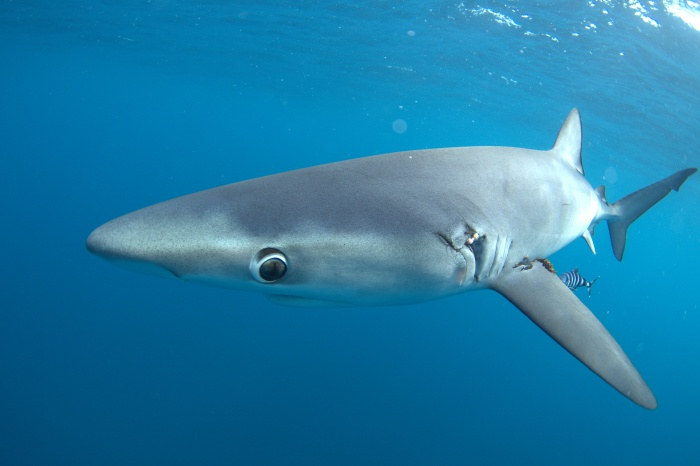Azul: (84, 97, 700, 426)
